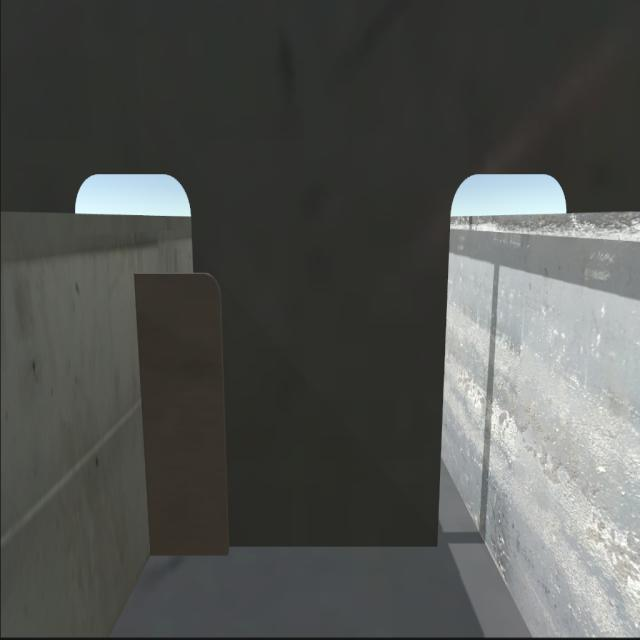fillet_yong_jeop_jang: (146, 531, 450, 566)
longi_yong_jeop_jang: (128, 264, 159, 568)
plate_CP05: (135, 271, 231, 553)
